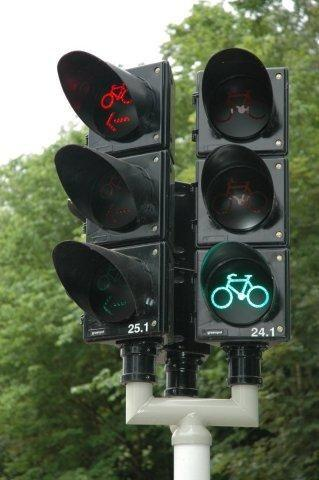Traffic light green: (188, 49, 305, 346)
